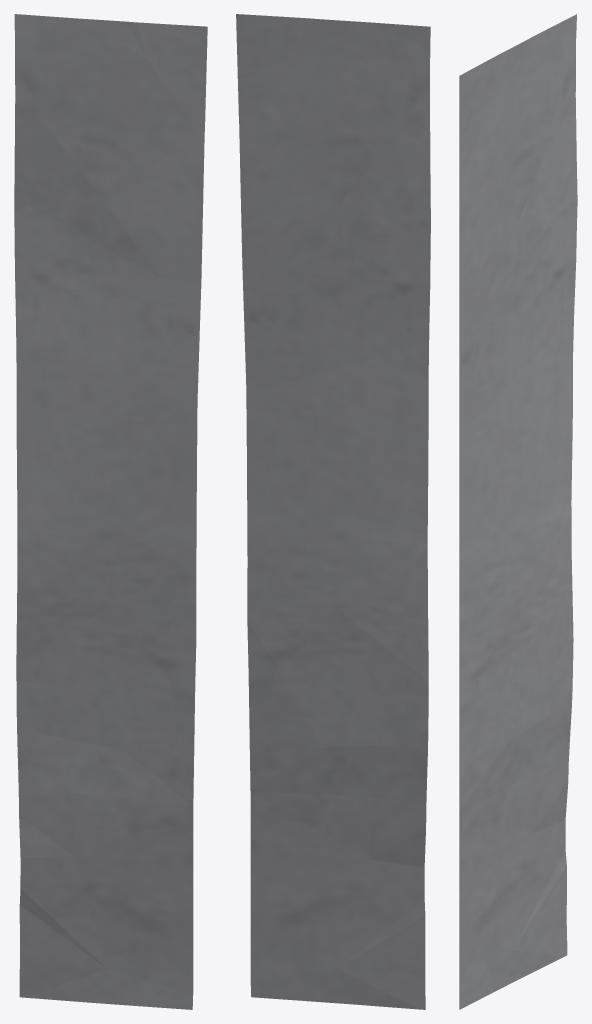
3 renders of one model, left to right at view 1: azimuth 30°, elevation 25°; view 2: azimuth 210°, elevation 25°; view 3: azimuth 270°, elevation 25°, orthographic. The views are drawn at different scales.
Bounding box in the file's own units: 0.2361 × 1.67 × 0.1906.
Materials: 1 (1 with a texture image).
